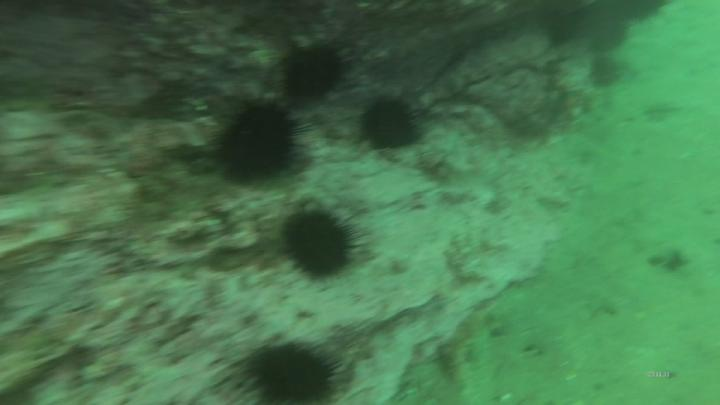echinus: (223, 95, 312, 185), (274, 199, 364, 285), (247, 335, 351, 405), (276, 40, 353, 111), (359, 94, 425, 151)
